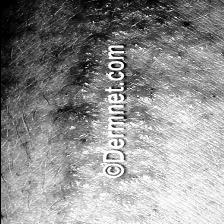Toxin: (139, 1, 171, 31)
